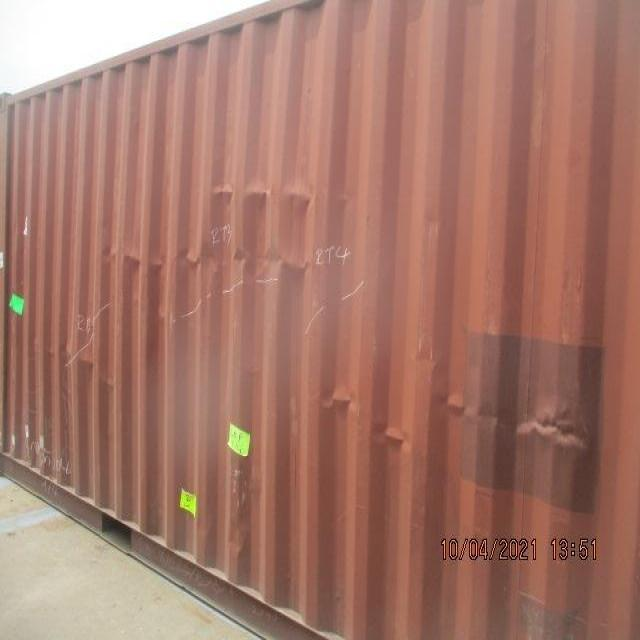dent: (509, 385, 595, 460), (208, 174, 322, 216), (40, 343, 121, 395), (102, 241, 202, 282), (315, 381, 360, 425), (368, 418, 416, 457), (226, 527, 248, 559)
